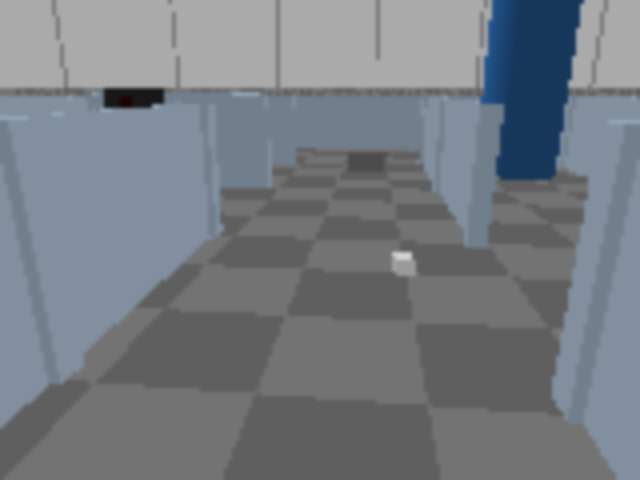obstacle: (348, 149, 388, 173)
puck: (392, 254, 415, 276)
